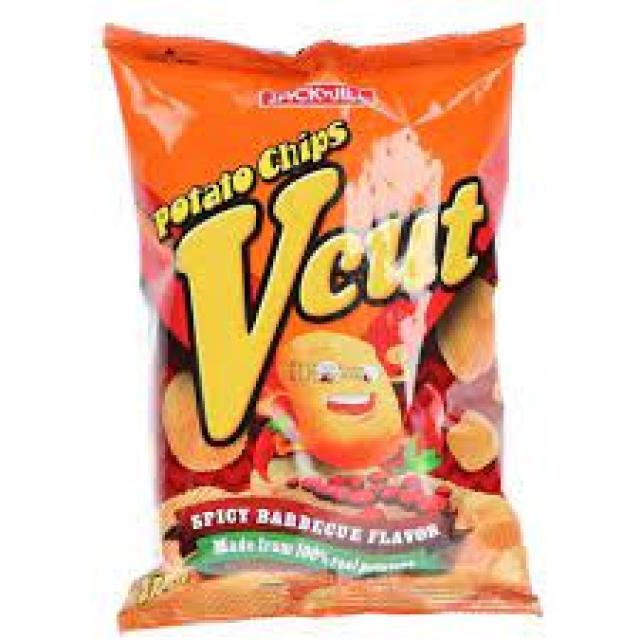junkfood wrapper: (106, 25, 539, 628)
